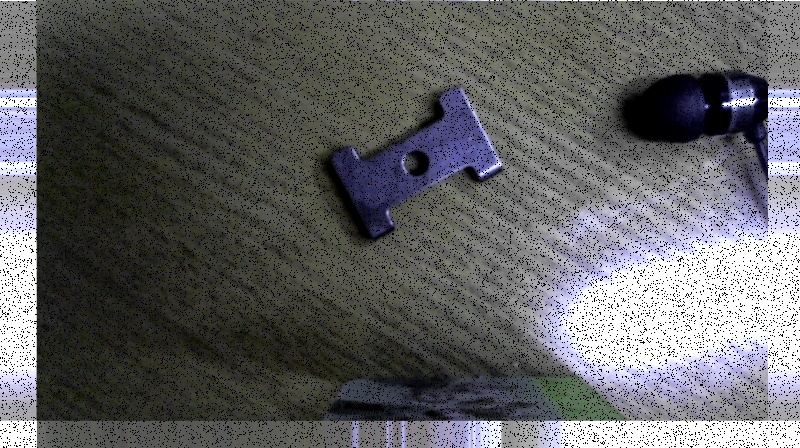O002: (328, 86, 504, 241)
